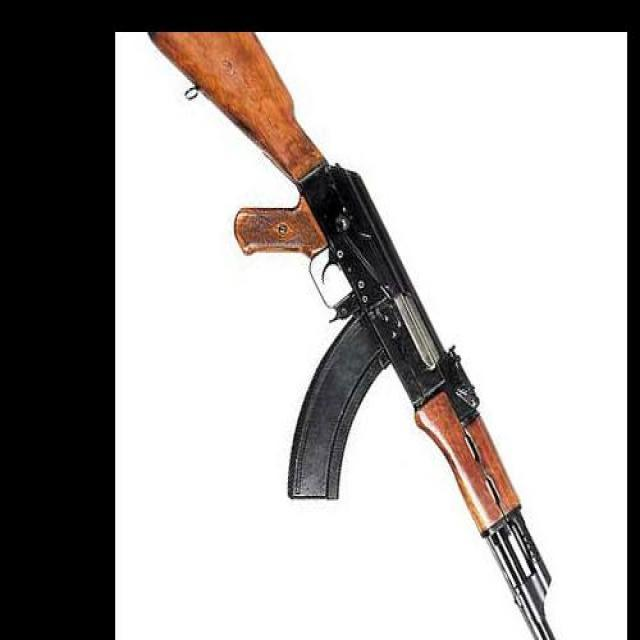weapon: (145, 31, 557, 640)
